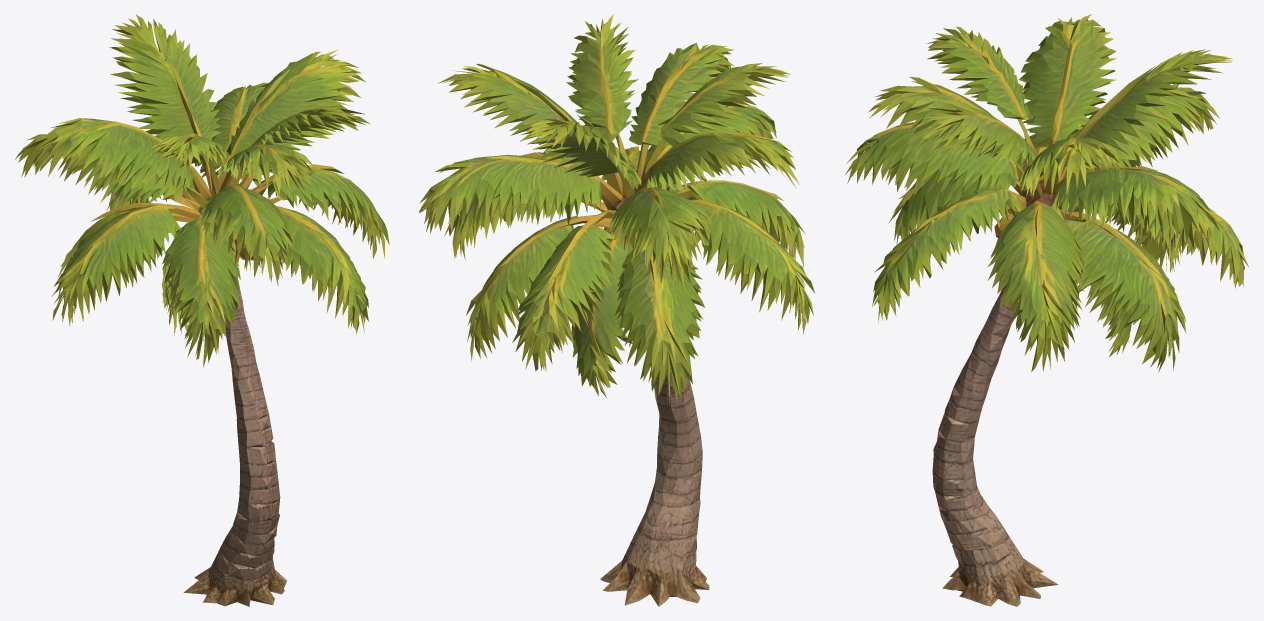
File: base_basic_pbr.glb
3 views of the same model, side by side, from view 1: azimuth 30°, elevation 25°; view 2: azimuth 150°, elevation 25°; view 3: azimuth 270°, elevation 25° (orthographic). The views are drawn at different scales.
Visible parts, largest first — view 1: model; view 2: model; view 3: model.
Boxes of the visible parts, bbox=[...] form: model: bbox=[15, 14, 389, 606]; model: bbox=[419, 14, 815, 606]; model: bbox=[845, 14, 1249, 606].
Bounding box in the file's own units: 1.36 × 1.9 × 1.32.
1 material, 1 textured.
